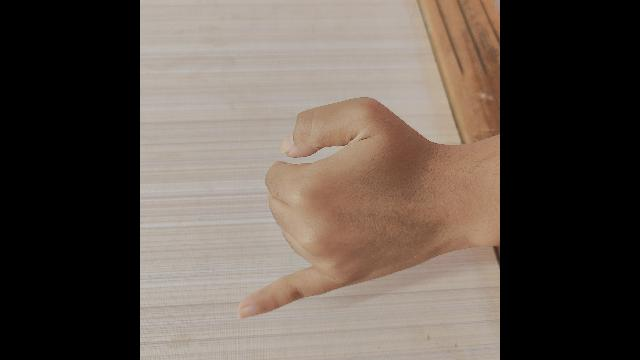Hamsapaksha: (240, 95, 500, 318)
